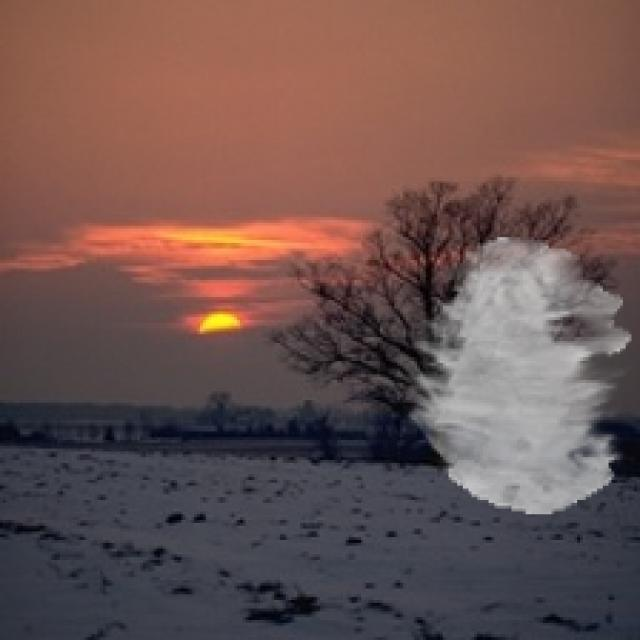Smoke: (406, 237, 632, 514)
